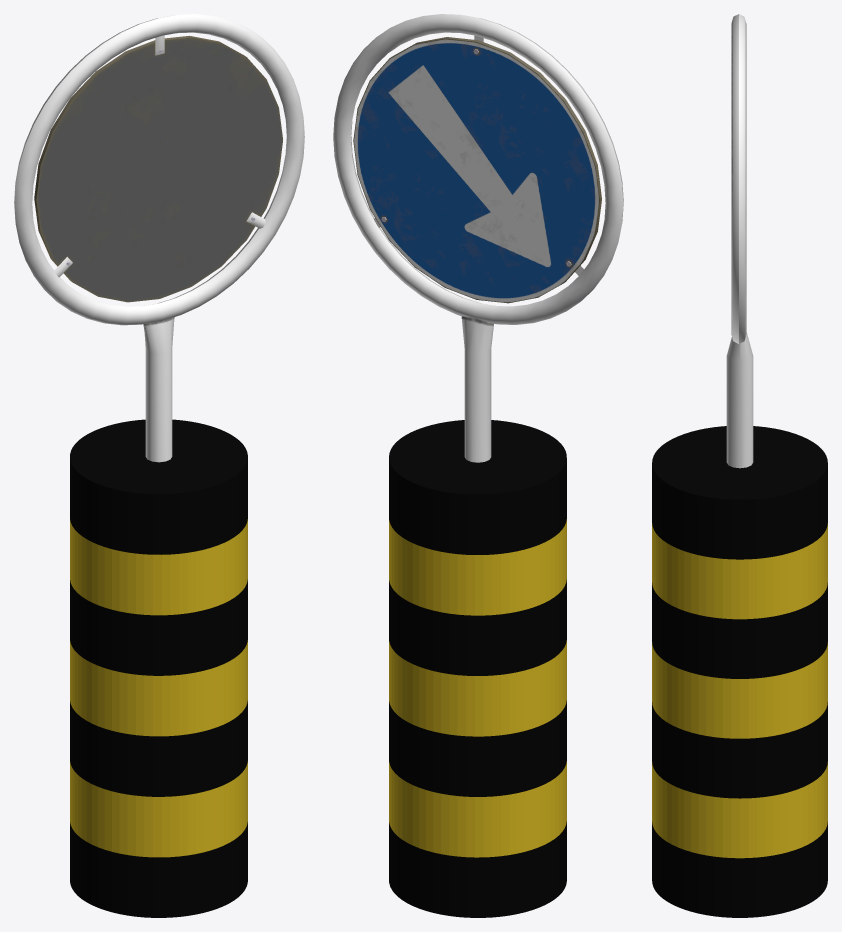
The model's file is gelb_schwarz_rechts_vorbeifahren_small.glb.
3 renders of one model, left to right at view 1: azimuth 30°, elevation 25°; view 2: azimuth 150°, elevation 25°; view 3: azimuth 270°, elevation 25°, orthographic.
Visible parts, largest first — view 1: Cylinder, SM_Sign_CH_Round; view 2: Cylinder, SM_Sign_CH_Round; view 3: Cylinder, SM_Sign_CH_Round.
Part boxes in pixels (left/top/right/bottom): Cylinder: left=70, top=419, right=247, bottom=917; SM_Sign_CH_Round: left=14, top=14, right=304, bottom=462; Cylinder: left=389, top=420, right=566, bottom=917; SM_Sign_CH_Round: left=333, top=14, right=623, bottom=462; Cylinder: left=652, top=426, right=827, bottom=917; SM_Sign_CH_Round: left=726, top=14, right=753, bottom=468.
Bounding box in the file's own units: 0.4812 × 1.37 × 0.256.
4 materials, 2 textured.
